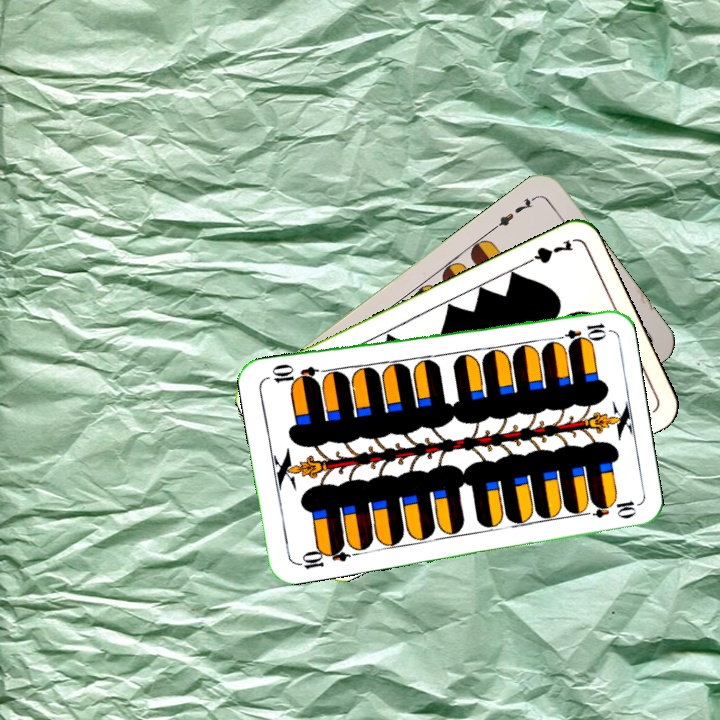E10: (292, 540, 351, 572), (550, 319, 609, 345)
E7: (489, 192, 540, 233)
G7: (518, 236, 576, 269)
